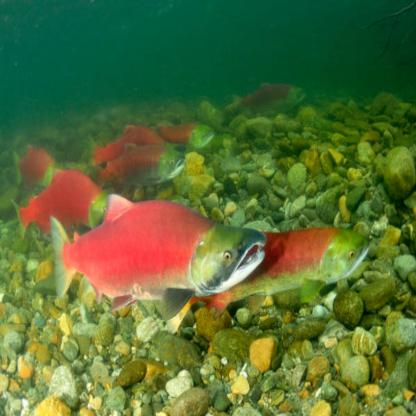sockeye: (66, 210, 261, 297), (266, 226, 374, 296), (23, 167, 112, 232), (90, 145, 183, 187), (216, 77, 302, 118), (137, 117, 214, 148), (18, 145, 60, 179)
